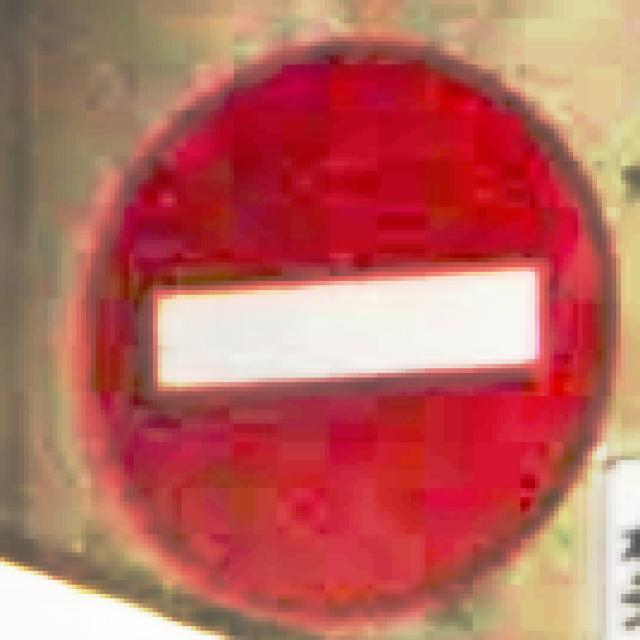noentry: (67, 28, 621, 636)
